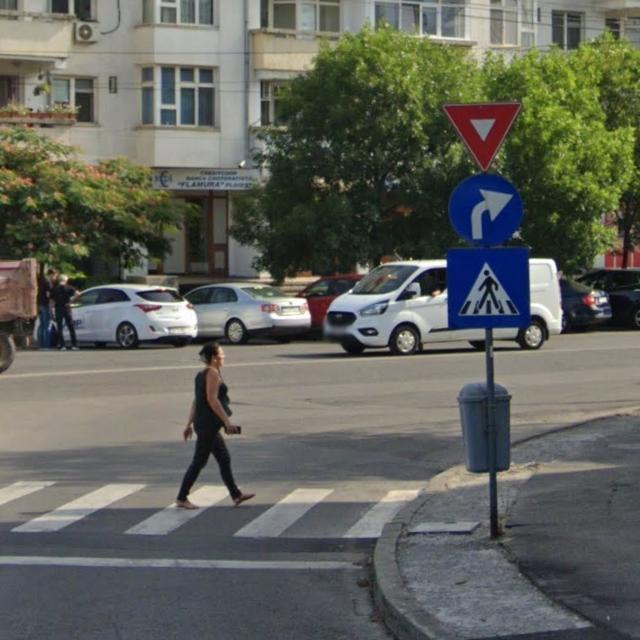info_crosswalk: (446, 247, 530, 327)
prio_give_way: (442, 100, 522, 173)
